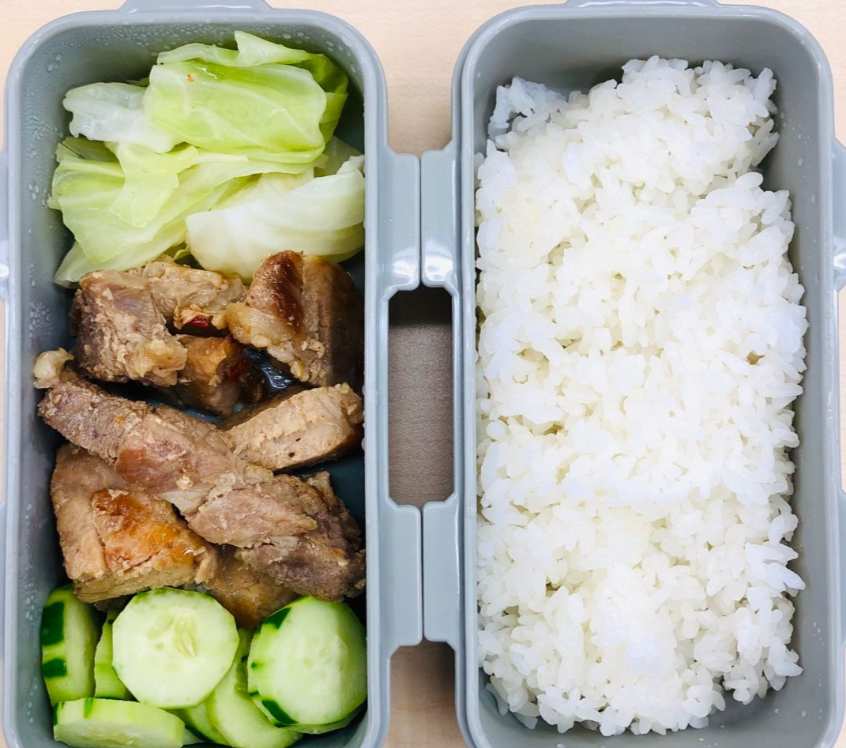buah_sayur_lainnya: (77, 84, 337, 241), (52, 607, 354, 734)
daging: (73, 284, 345, 572)
makanan_berpati: (520, 102, 771, 688)
